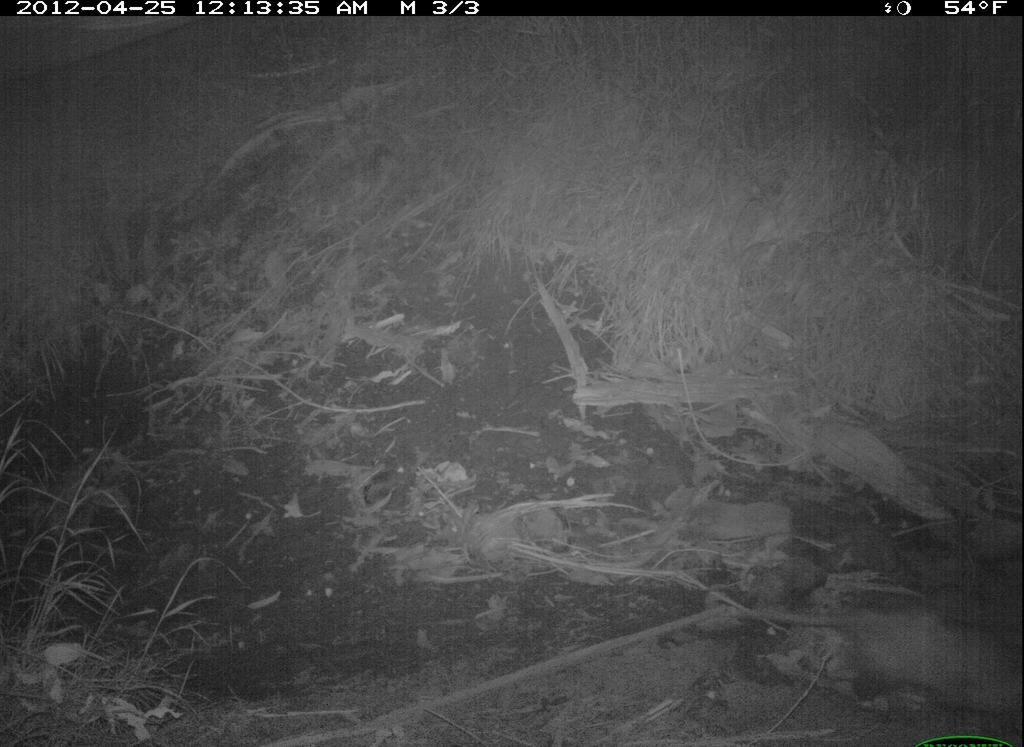opossum: (711, 570, 1023, 730)
